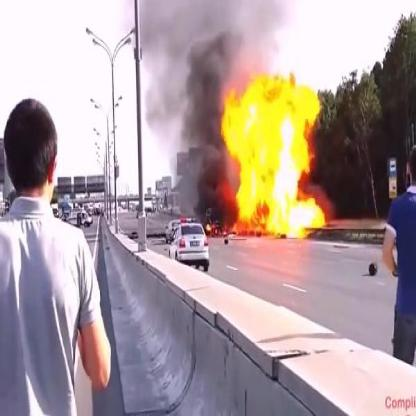fire: (219, 70, 327, 240), (206, 221, 218, 236)
